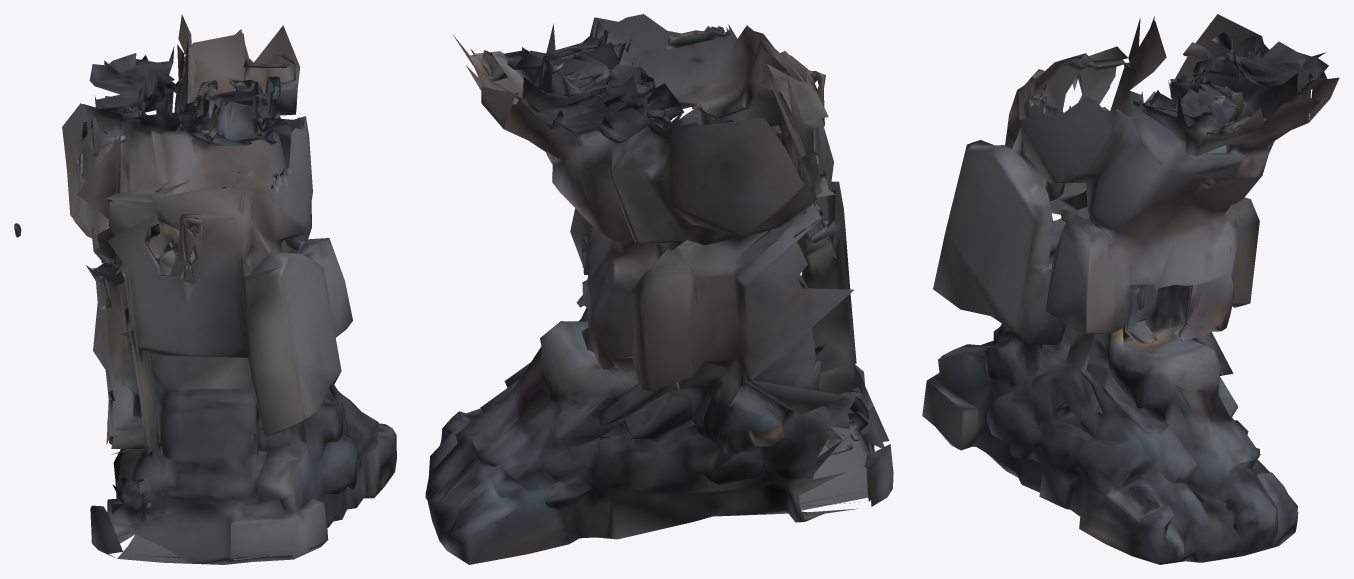
Rendered from tankblock_leg_right_001_lower.glb.
The picture shows the model from 3 angles, left to right: view 1: azimuth 30°, elevation 25°; view 2: azimuth 150°, elevation 25°; view 3: azimuth 270°, elevation 25°; orthographic projection. The views are drawn at different scales.
Visible parts, largest first — view 1: W_leg_right_lower; view 2: W_leg_right_lower; view 3: W_leg_right_lower.
Part boxes in pixels (box(x1,y1,x2,y2)): W_leg_right_lower: box(14, 14, 396, 564); W_leg_right_lower: box(425, 14, 893, 564); W_leg_right_lower: box(922, 14, 1339, 564).
Size of the model in its own units: 1.48 by 1.69 by 1.44.
3 materials, 3 textured.
